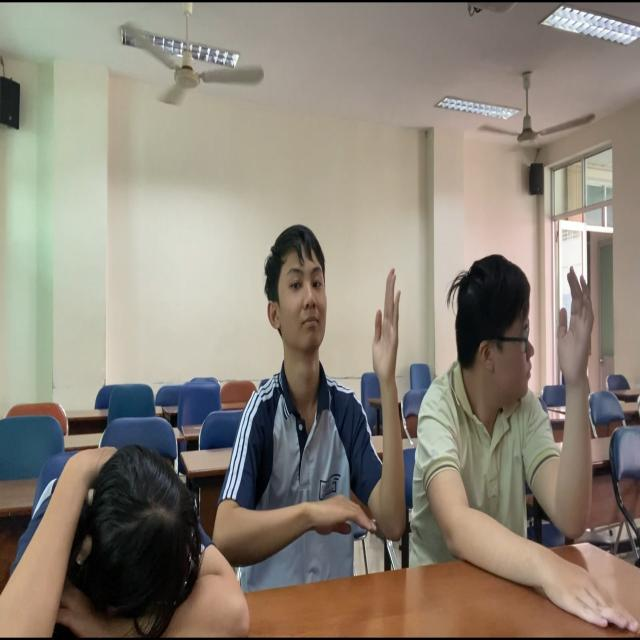raise_hand: (223, 220, 407, 585), (422, 253, 600, 586)
sleep: (1, 426, 252, 640)
